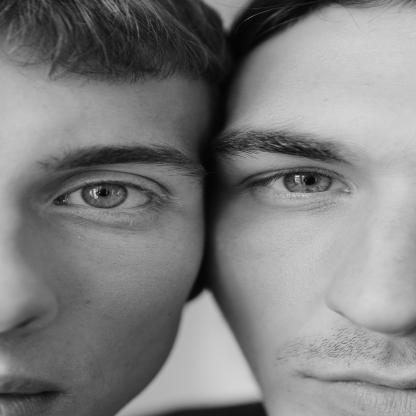Eye: (44, 169, 173, 223), (236, 166, 354, 206)
Mouth: (295, 362, 416, 415), (0, 370, 68, 416)
Nose: (324, 195, 415, 336), (1, 205, 61, 337)
